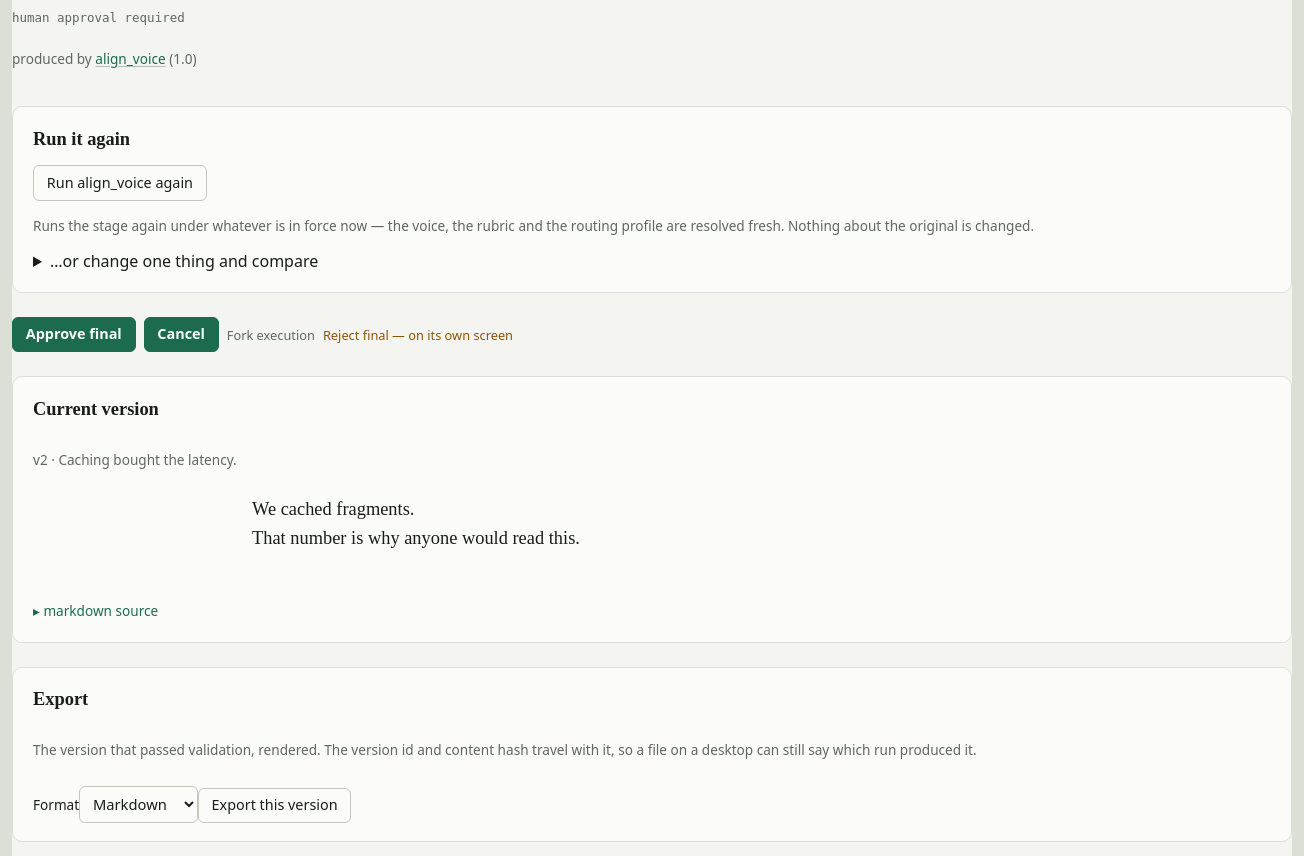
it: exporting a version › shows the provenance beside the bytes, so a file can say where it came from
Select "HTML" in the dropdown labelled "Format". click: point(138, 804)
box: top-left (79, 786), bottom-right (198, 823)
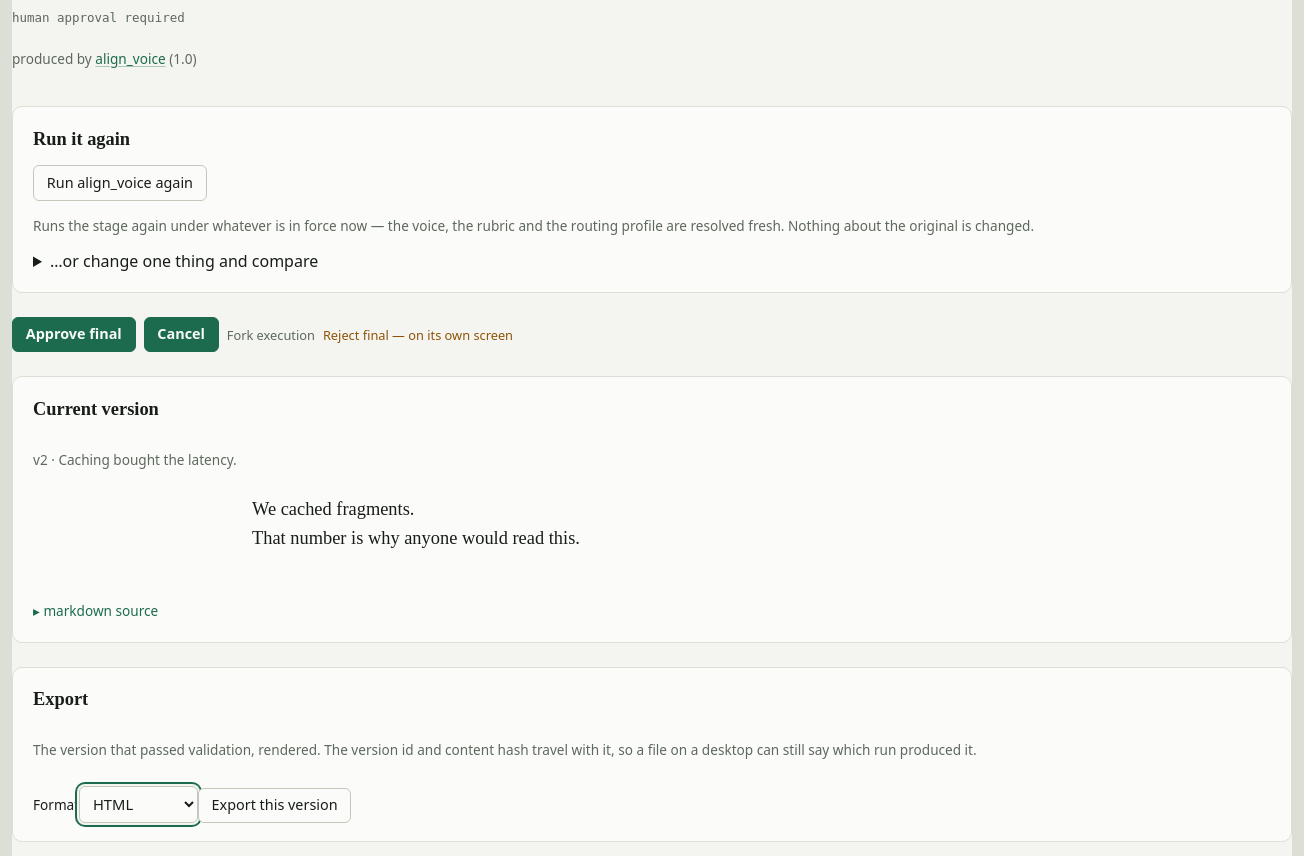
Click the button "Export this version". click: point(275, 806)
box: top-left (198, 788), bottom-right (351, 823)
(page scrolled)
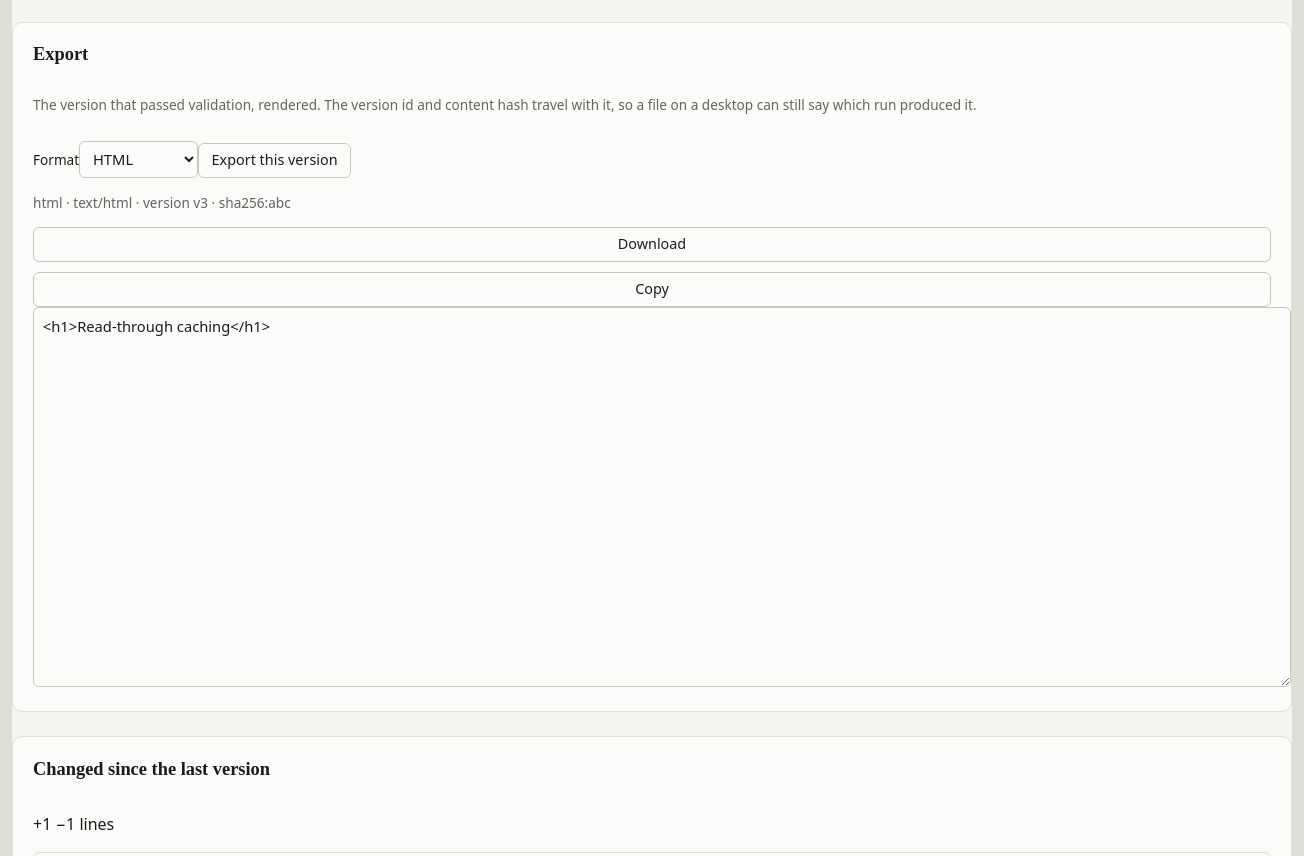
Expected: the element with test id "export" shows "sha256:abc", top-left (219, 193), bottom-right (291, 212)
Expected: the element with test id "export" shows "v3", top-left (193, 193), bottom-right (208, 212)
